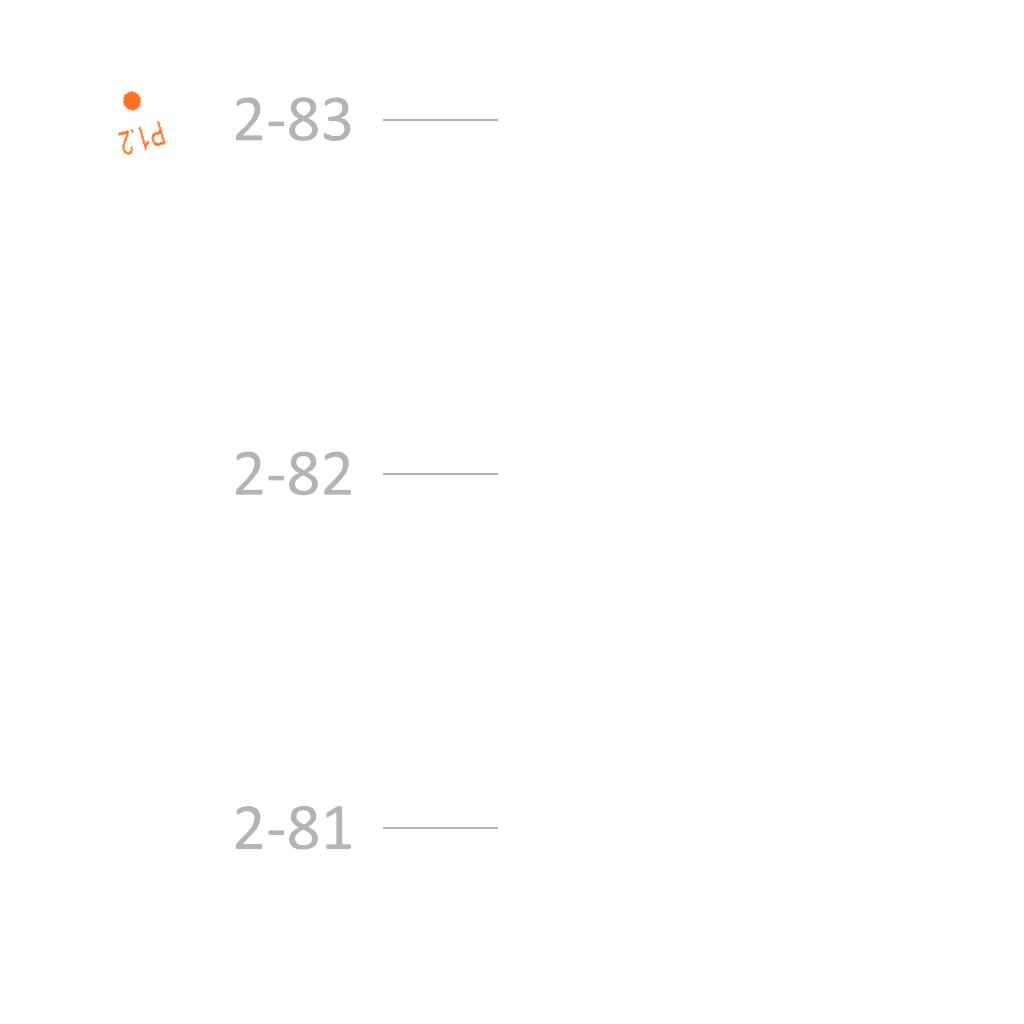Downlight_LED_Einbauleuchten_Flur: (106, 83, 168, 159)
